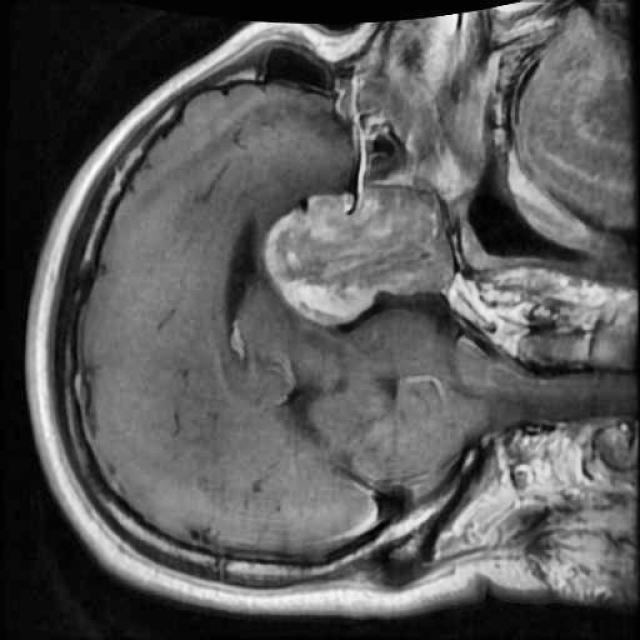Tumor: (240, 159, 484, 345)
